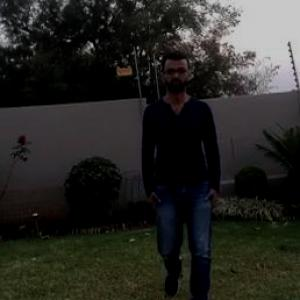follow: (150, 63, 217, 299)
